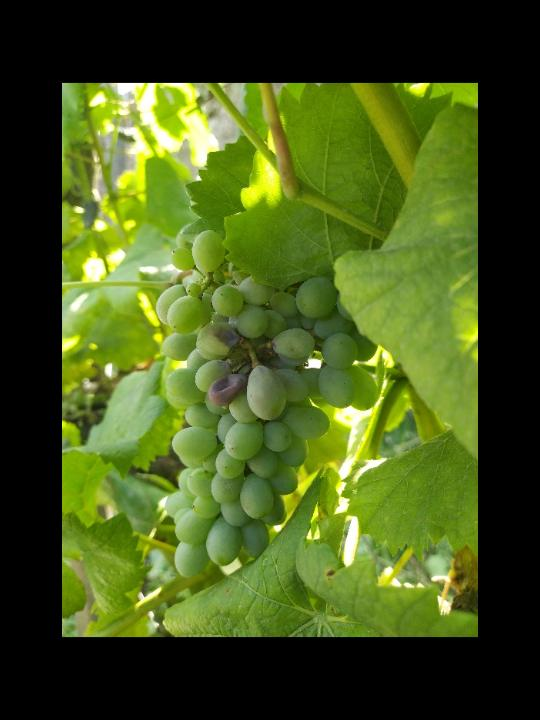grape: (154, 222, 380, 580)
